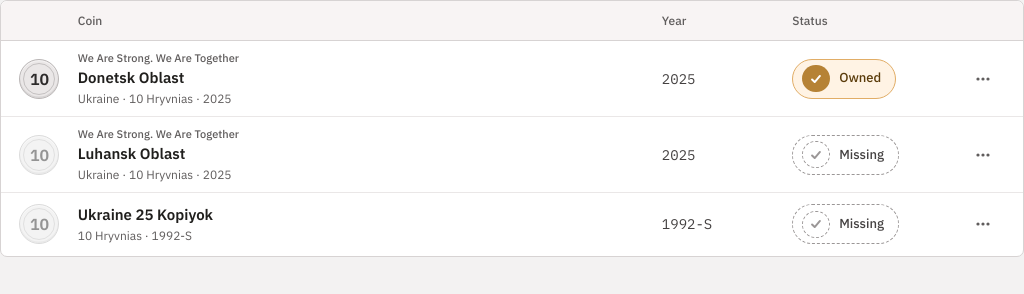
it: SetCoinList: row menu (criterion 12) › passes the other sets through to the menu
Click the button with test id "coin-row-menu-trigger" at x=983, y=78, box [961,56,1005,100]
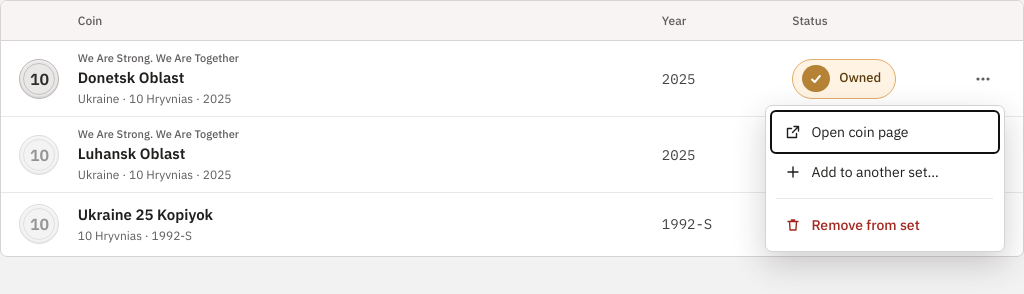
Click the menu item with test id "coin-row-menu-add-to-set" at x=885, y=172, box [772,152,998,192]
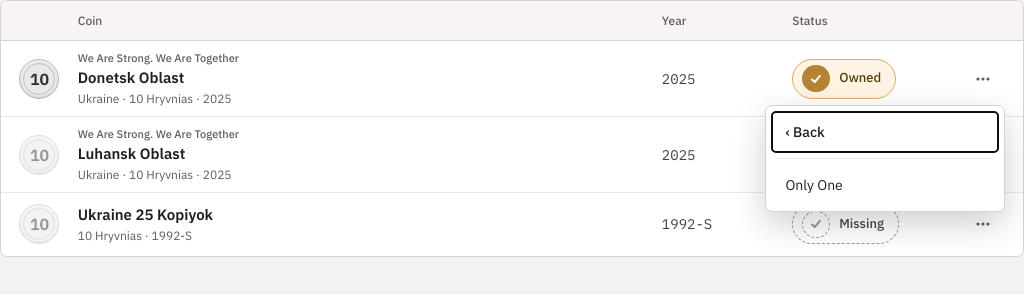
Expected: the elements with test id "coin-row-menu-set-item" read "Only One", in this order, [772,164,998,204]
